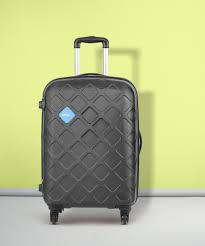suitcase: (39, 36, 144, 224)
